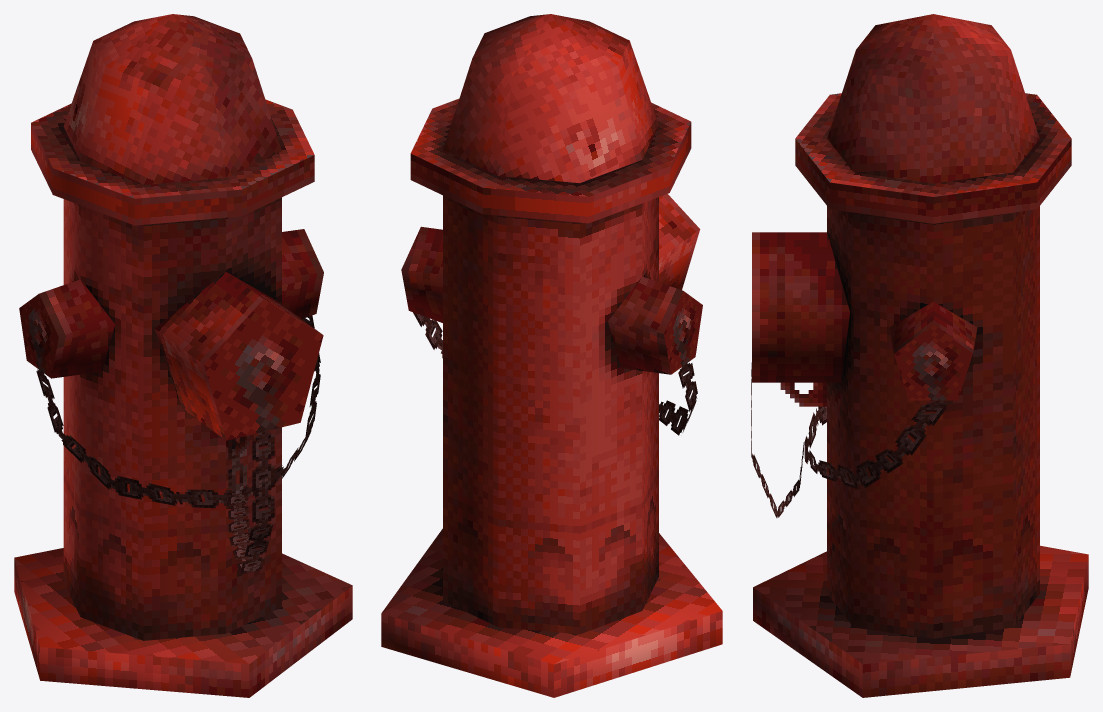
File: hydrant_psx_low_poly_fire_hydrant_1d2b13.glb
The picture shows the model from 3 angles, left to right: view 1: azimuth 30°, elevation 25°; view 2: azimuth 150°, elevation 25°; view 3: azimuth 270°, elevation 25°; orthographic projection.
Parts seen in each view (by area): view 1: Object_2; view 2: Object_2; view 3: Object_2.
Boxes of the visible parts, x1,y1,x2,y2 form: Object_2: [14, 14, 352, 697]; Object_2: [381, 14, 722, 697]; Object_2: [751, 14, 1088, 697].
Size of the model in its own units: 0.4025 by 0.7941 by 0.3958.
1 material, 1 textured.
